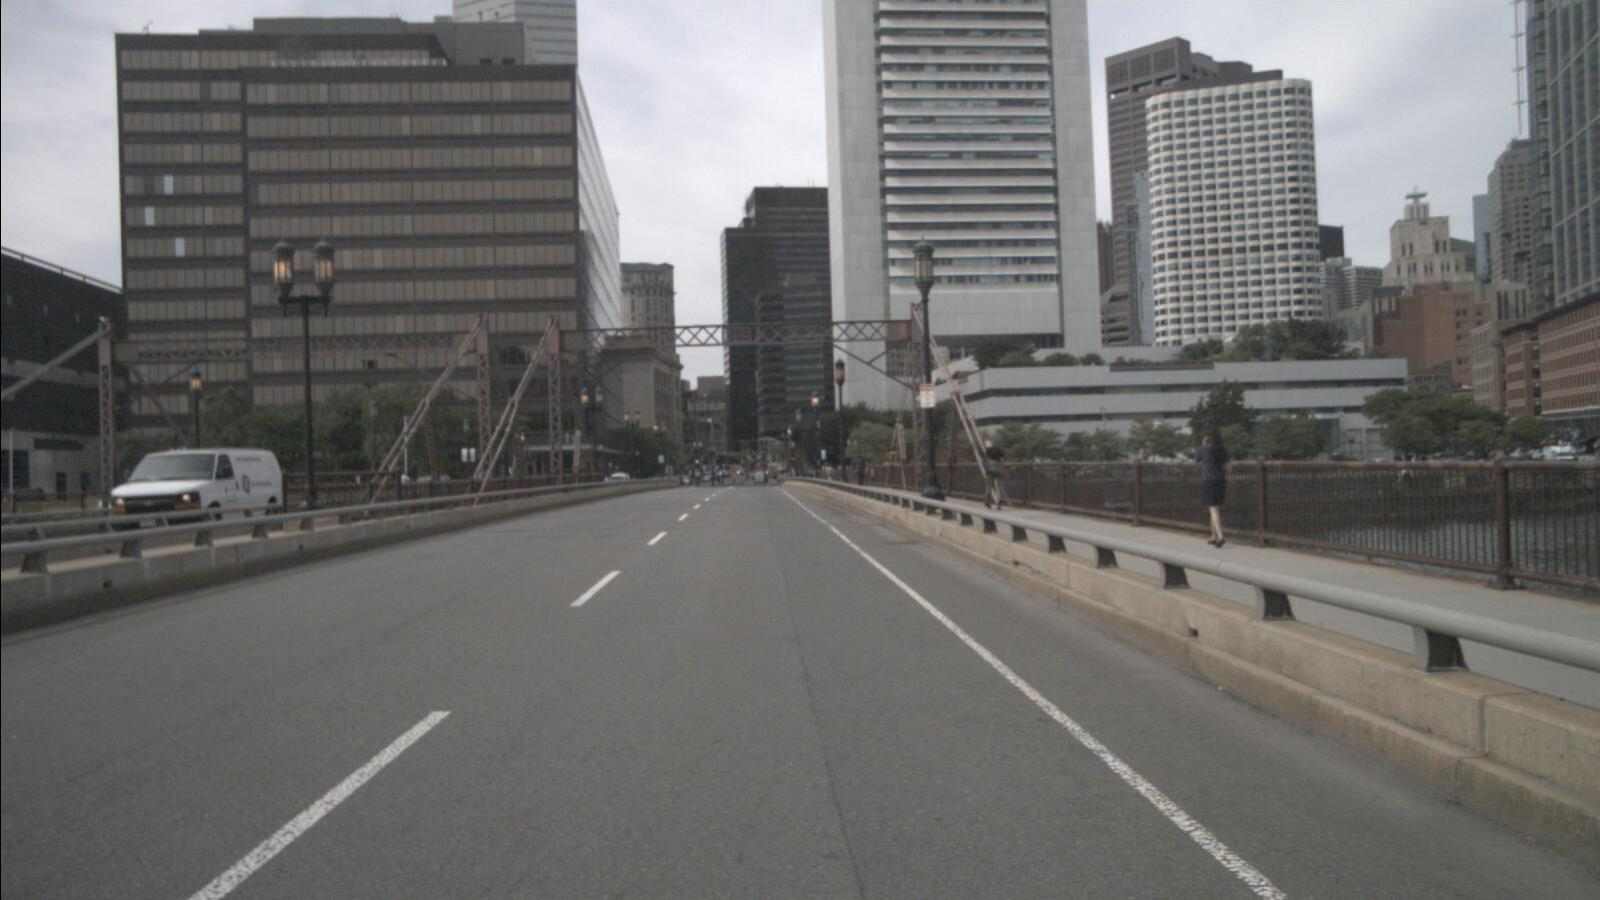human.pedestrian.adult-pedestrian.moving: (1191, 427, 1230, 549), (978, 437, 1006, 511), (850, 450, 867, 489)
